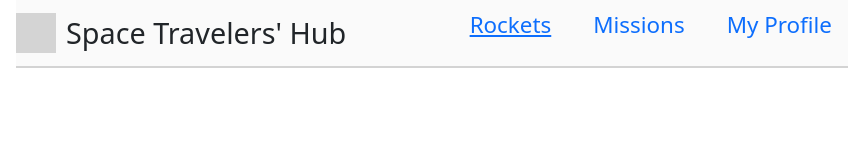
Test case: App › navigates to Missions and displays missions
Click the link "Missions".
click(639, 24)  # box [593,9,685,40]
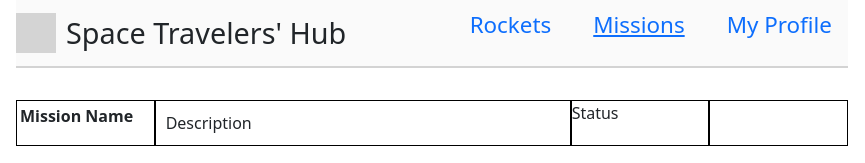
expect the text "Description" is shown: met, box [155,100,571,146]
